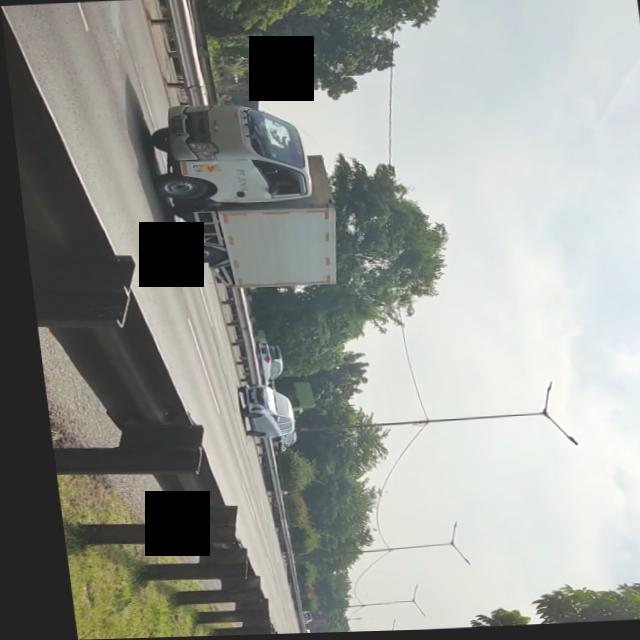Golongan I: (138, 98, 340, 291), (224, 384, 293, 441)
